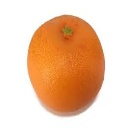orange: (24, 11, 110, 115)
